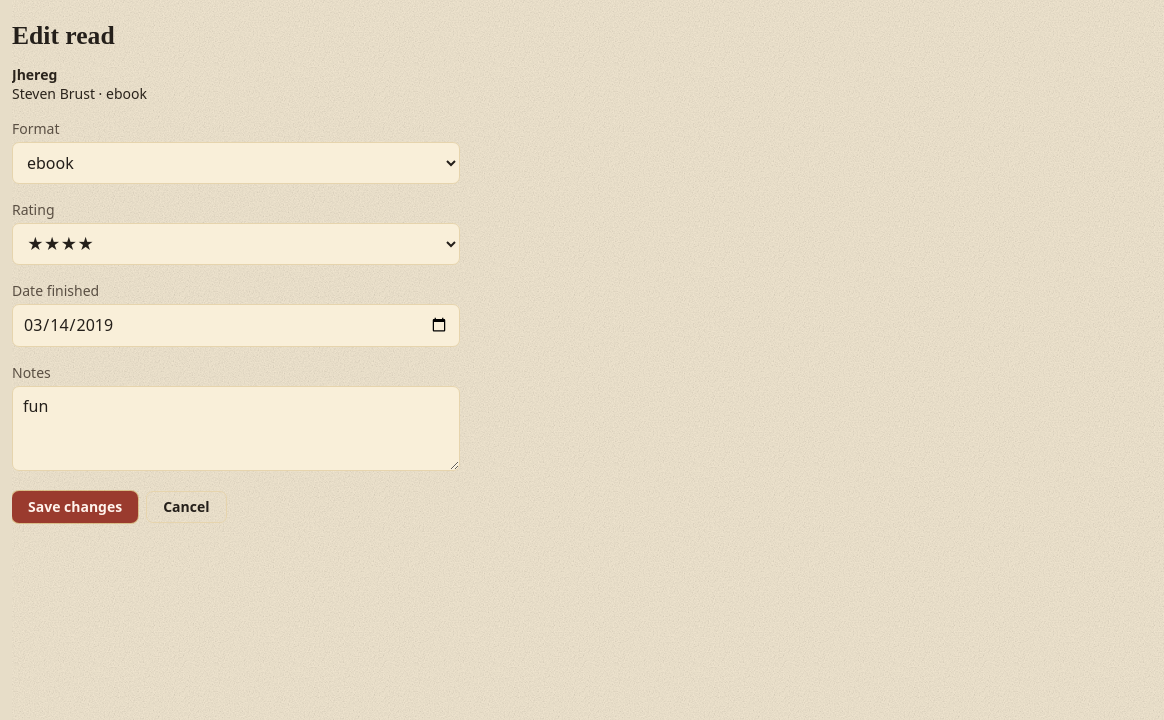
Test: HistoryEditView › falls back to the generic message on non-409 failures
The width and height of the screenshot is (1164, 720).
Click the button "Save changes".
click(75, 507)  # box [12, 491, 138, 523]
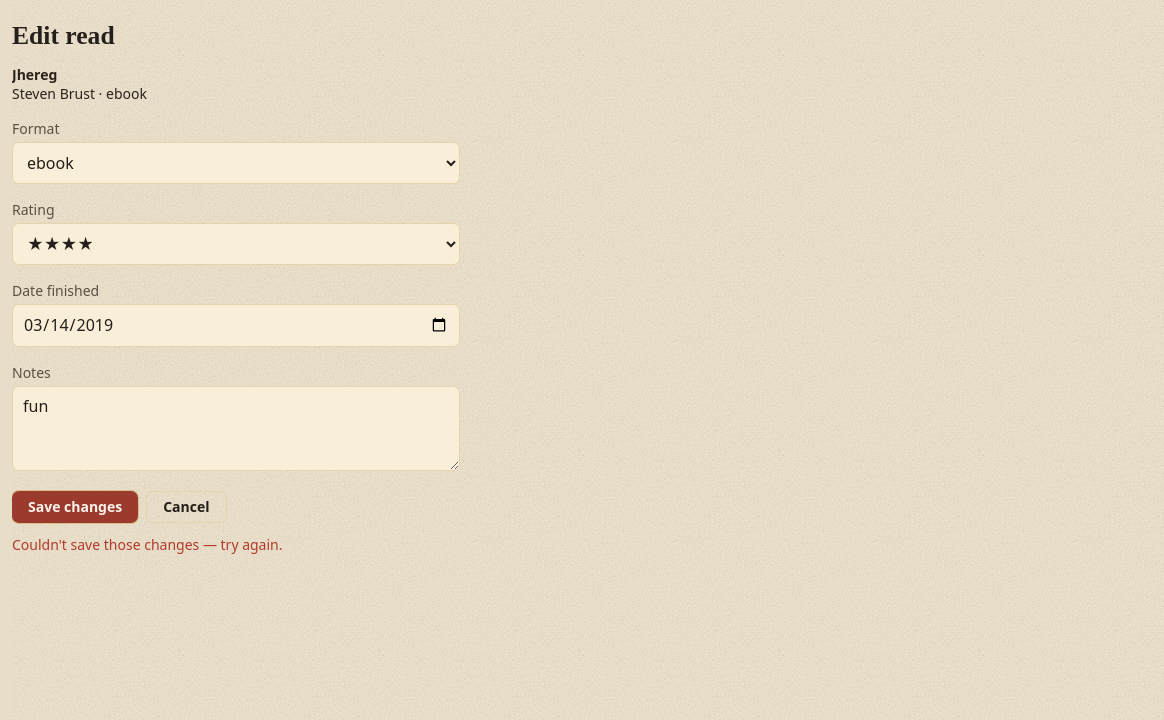
Expected: the text "Couldn't save those changes — try again." is shown, [12, 535, 282, 554]
